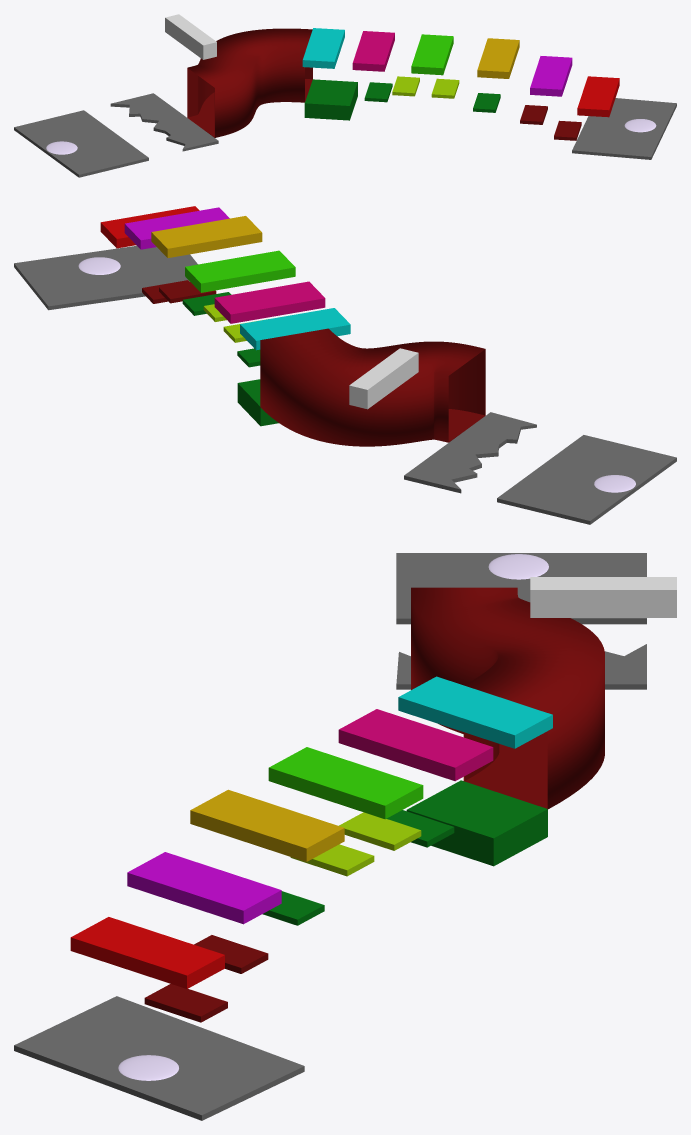
3 views of the same model, one above another, from view 1: azimuth 30°, elevation 25°; view 2: azimuth 150°, elevation 25°; view 3: azimuth 270°, elevation 25° (orthographic). The views are drawn at different scales.
Visible parts, largest first — view 1: NurbsPath, Cube, Cube.008, Cube.001, Cube.002, Cube.014, Cube.010, Cube.012, Cube.015, Cube.016, Cube.013, Cube.009 (+8 smaller); view 2: NurbsPath, Cube, Cube.008, Cube.001, Cube.012, Cube.014, Cube.013, Cube.009, Cube.010, Cube.015, Cube.016, Cube.002 (+4 smaller); view 3: NurbsPath, Cube.008, Cube, Cube.002, Cube.013, Cube.012, Cube.010, Cube.014, Cube.015, Cube.016, Cube.009, Cube.001 (+8 smaller).
Part boxes in pixels (<box>): NurbsPath: <box>187,28,312,137</box>; Cube: <box>14,110,148,177</box>; Cube.008: <box>572,98,676,159</box>; Cube.001: <box>110,93,218,151</box>; Cube.002: <box>304,79,357,120</box>; Cube.014: <box>477,38,519,78</box>; Cube.010: <box>302,28,344,68</box>; Cube.012: <box>352,31,394,71</box>; Cube.015: <box>530,56,572,96</box>; Cube.016: <box>577,76,619,117</box>; Cube.013: <box>411,34,453,75</box>; Cube.009: <box>165,14,216,59</box>; NurbsPath: <box>260,328,485,446</box>; Cube: <box>497,435,676,524</box>; Cube.008: <box>14,245,197,310</box>; Cube.001: <box>404,412,536,493</box>; Cube.012: <box>214,281,325,323</box>; Cube.014: <box>151,216,262,257</box>; Cube.013: <box>185,250,295,292</box>; Cube.009: <box>349,348,418,409</box>; Cube.010: <box>240,308,350,350</box>; Cube.015: <box>124,207,229,249</box>; Cube.016: <box>100,206,199,248</box>; Cube.002: <box>237,379,278,426</box>; NurbsPath: <box>411,587,604,809</box>; Cube.008: <box>14,996,304,1120</box>; Cube: <box>396,553,646,624</box>; Cube.002: <box>406,780,547,866</box>; Cube.013: <box>268,747,423,819</box>; Cube.012: <box>338,709,493,781</box>; Cube.010: <box>398,676,552,748</box>; Cube.014: <box>190,789,344,861</box>; Cube.015: <box>127,852,281,924</box>; Cube.016: <box>70,917,224,988</box>; Cube.009: <box>530,577,676,617</box>; Cube.001: <box>396,644,646,689</box>.
Bounding box in the file's own units: 7883 × 1280 × 4294.
